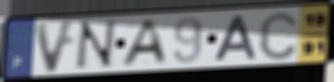9: (171, 15, 203, 66)
A: (118, 18, 170, 69), (212, 14, 259, 63)
C: (257, 10, 300, 63)
N: (72, 18, 119, 72)
V: (33, 18, 79, 76)
